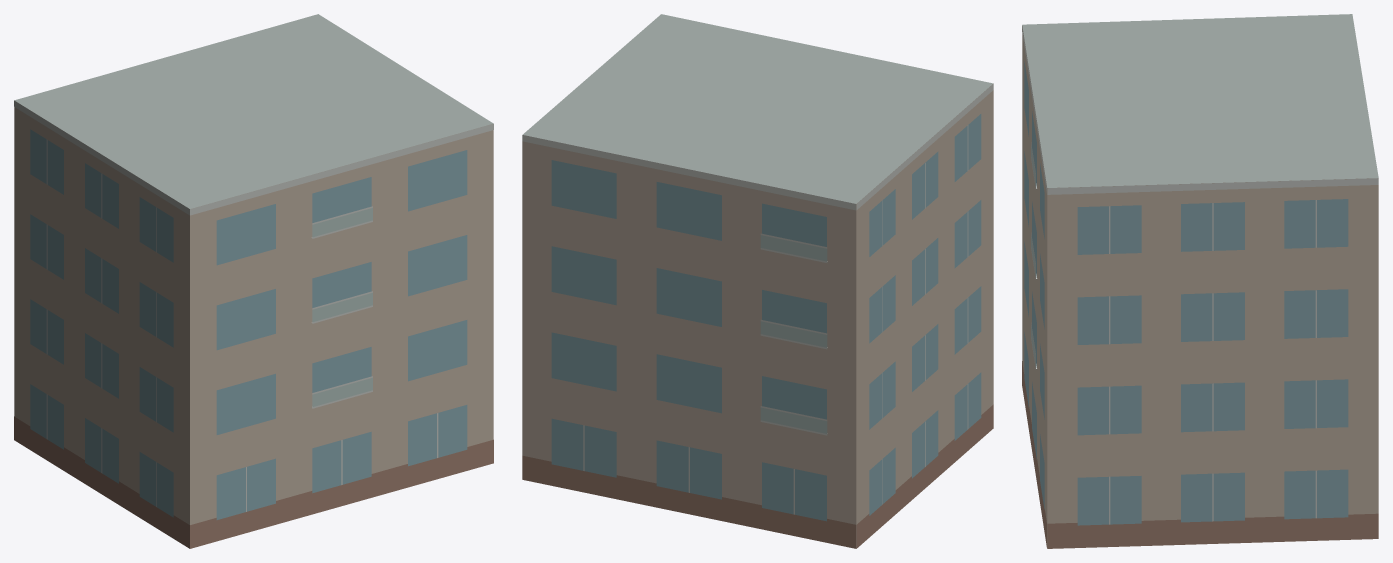
File: survey-upis-33026008.glb
3 renders of one model, left to right at view 1: azimuth 30°, elevation 25°; view 2: azimuth 150°, elevation 25°; view 3: azimuth 270°, elevation 25°, orthographic. The views are drawn at different scales.
Parts seen in each view (by area): view 1: survey-upis-33026008.tmp; view 2: survey-upis-33026008.tmp; view 3: survey-upis-33026008.tmp.
Boxes of the visible parts, x1=… form: survey-upis-33026008.tmp: x1=14, y1=14, x2=493, y2=548; survey-upis-33026008.tmp: x1=522, y1=14, x2=993, y2=548; survey-upis-33026008.tmp: x1=1022, y1=14, x2=1378, y2=548.
Bounding box in the file's own units: 13.36 × 12.9 × 11.57.
